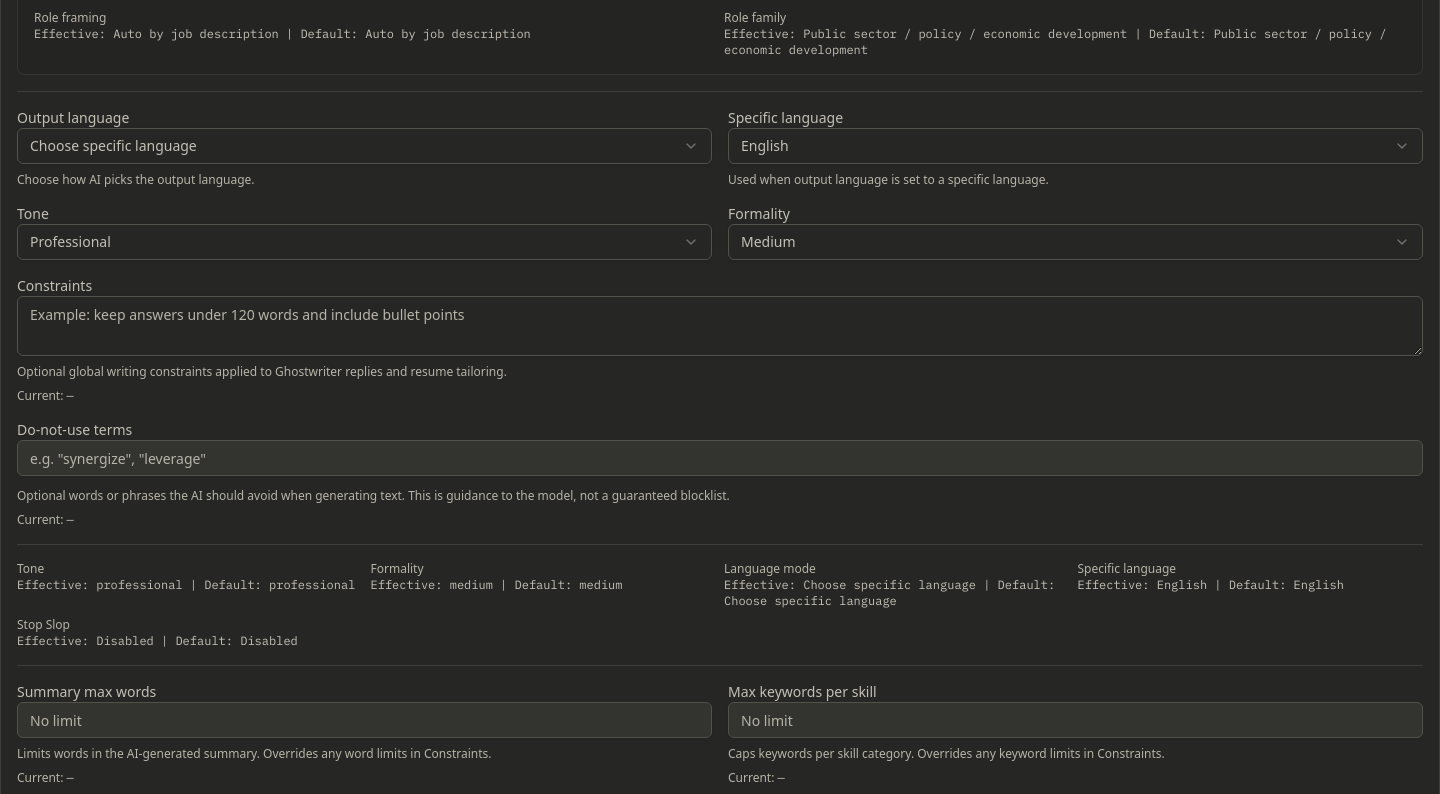
ChatSettingsSection › shows validation error when summary word limit is out of range
The width and height of the screenshot is (1440, 794).
(page scrolled)
Type "999" into the number field with id "chatStyleSummaryMaxWords" at (364, 720), box [17,702,712,738]
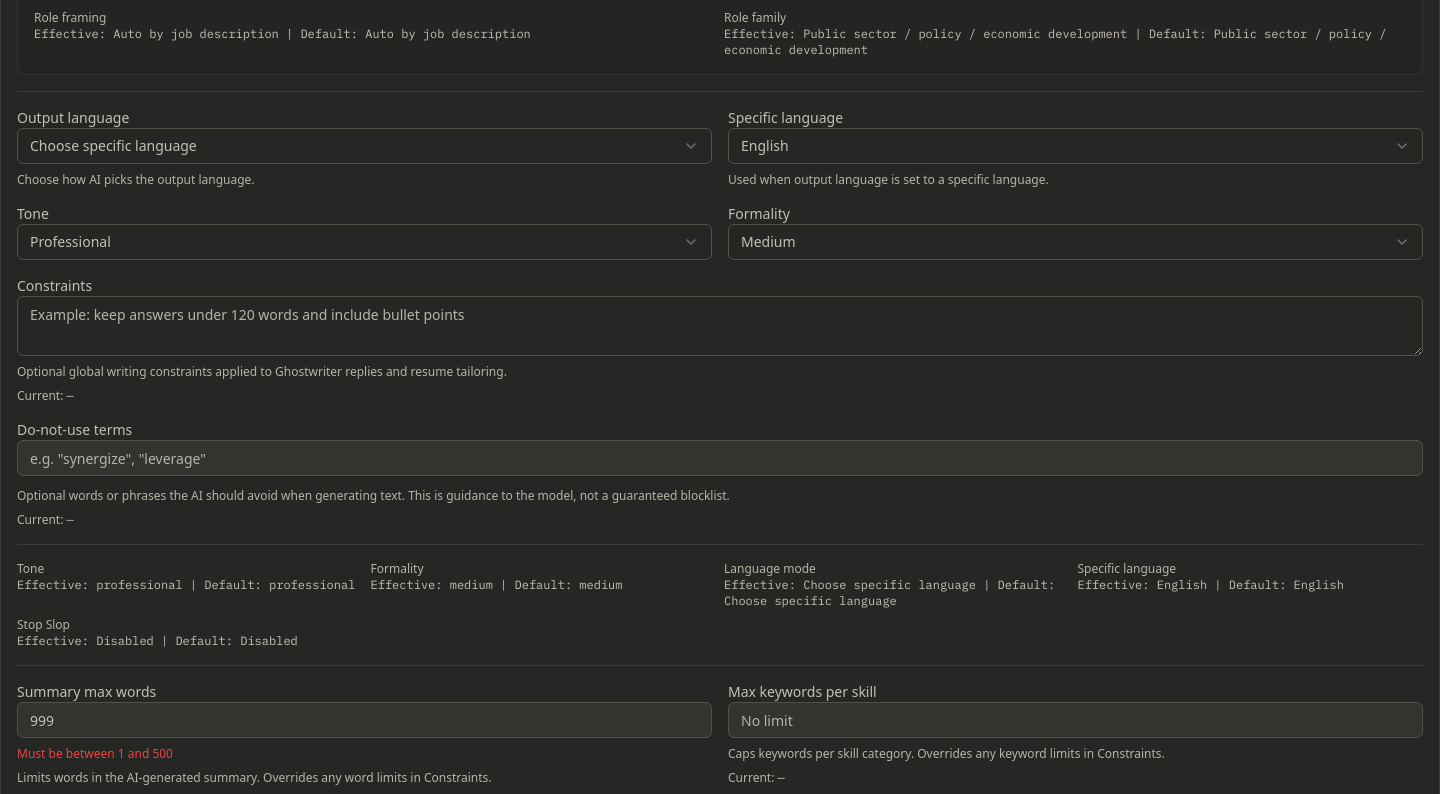
Now the text "Must be between 1 and 500" is shown, box [17,745,173,762]
